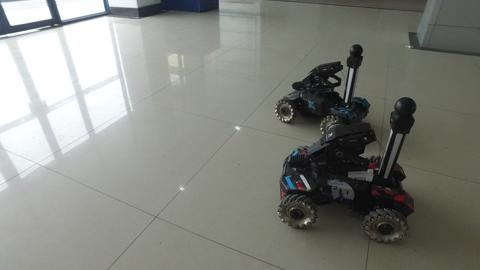chariot: (274, 92, 431, 253), (271, 37, 375, 137)
